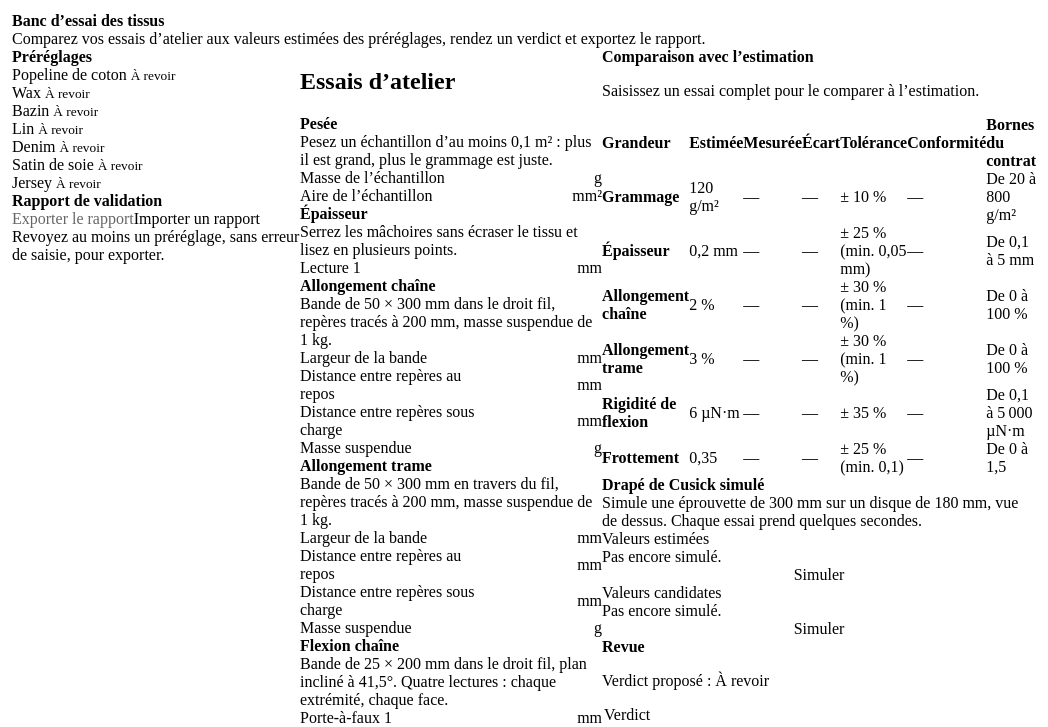
panneau de drapé simulé : états › en cours : message de calcul et bouton désactivé
The image size is (1048, 727).
Click the 1st button "Simuler".
click(819, 575)  # box [602,566,1036,584]
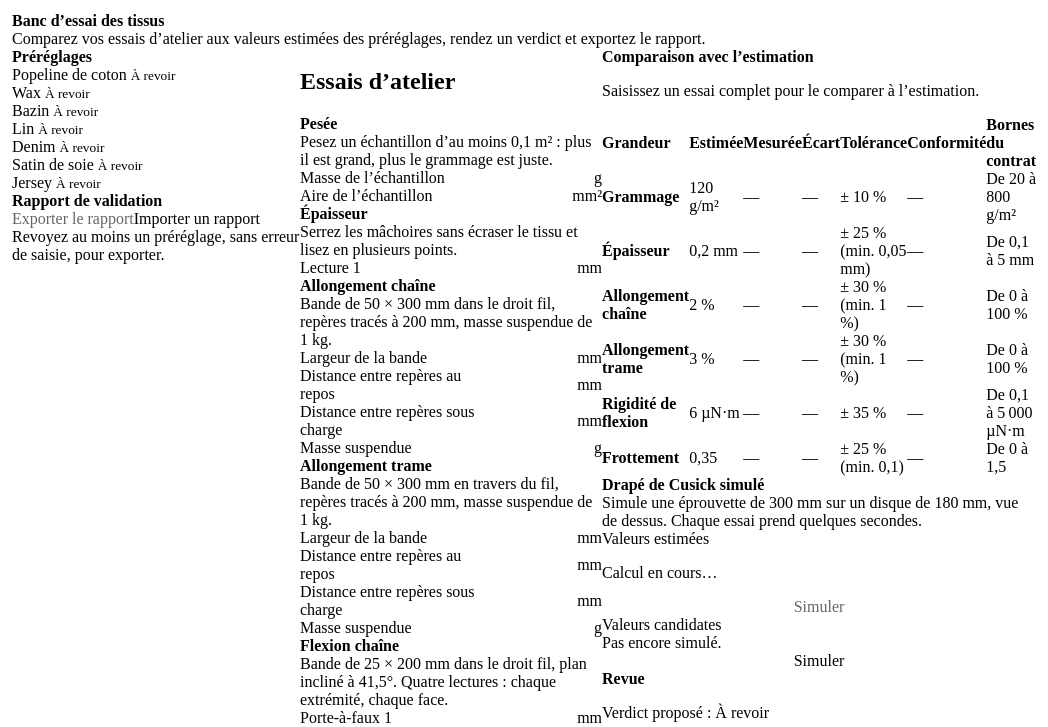
Now the text "Calcul en cours…" is shown, box [602,564,718,581]
Now the button "Simuler" below "Calcul en cours…" is disabled, box [602,598,1036,616]
